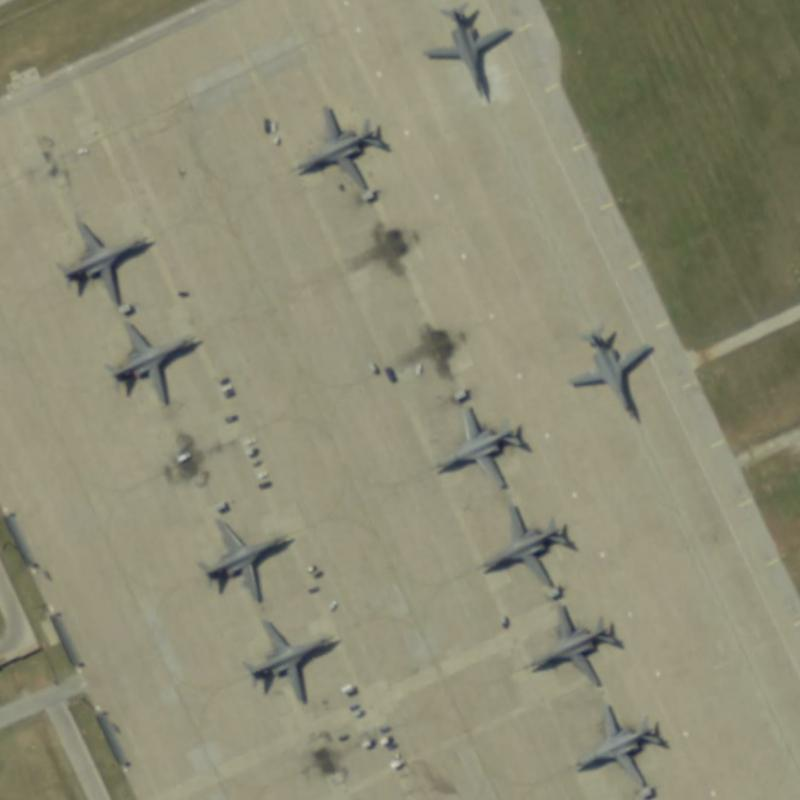A10: (416, 1, 528, 105), (286, 98, 399, 199), (473, 499, 588, 598), (53, 205, 154, 315), (564, 326, 670, 423), (429, 398, 537, 491), (566, 700, 669, 797), (196, 508, 296, 607), (522, 604, 633, 693), (241, 615, 341, 706), (109, 320, 206, 410)
